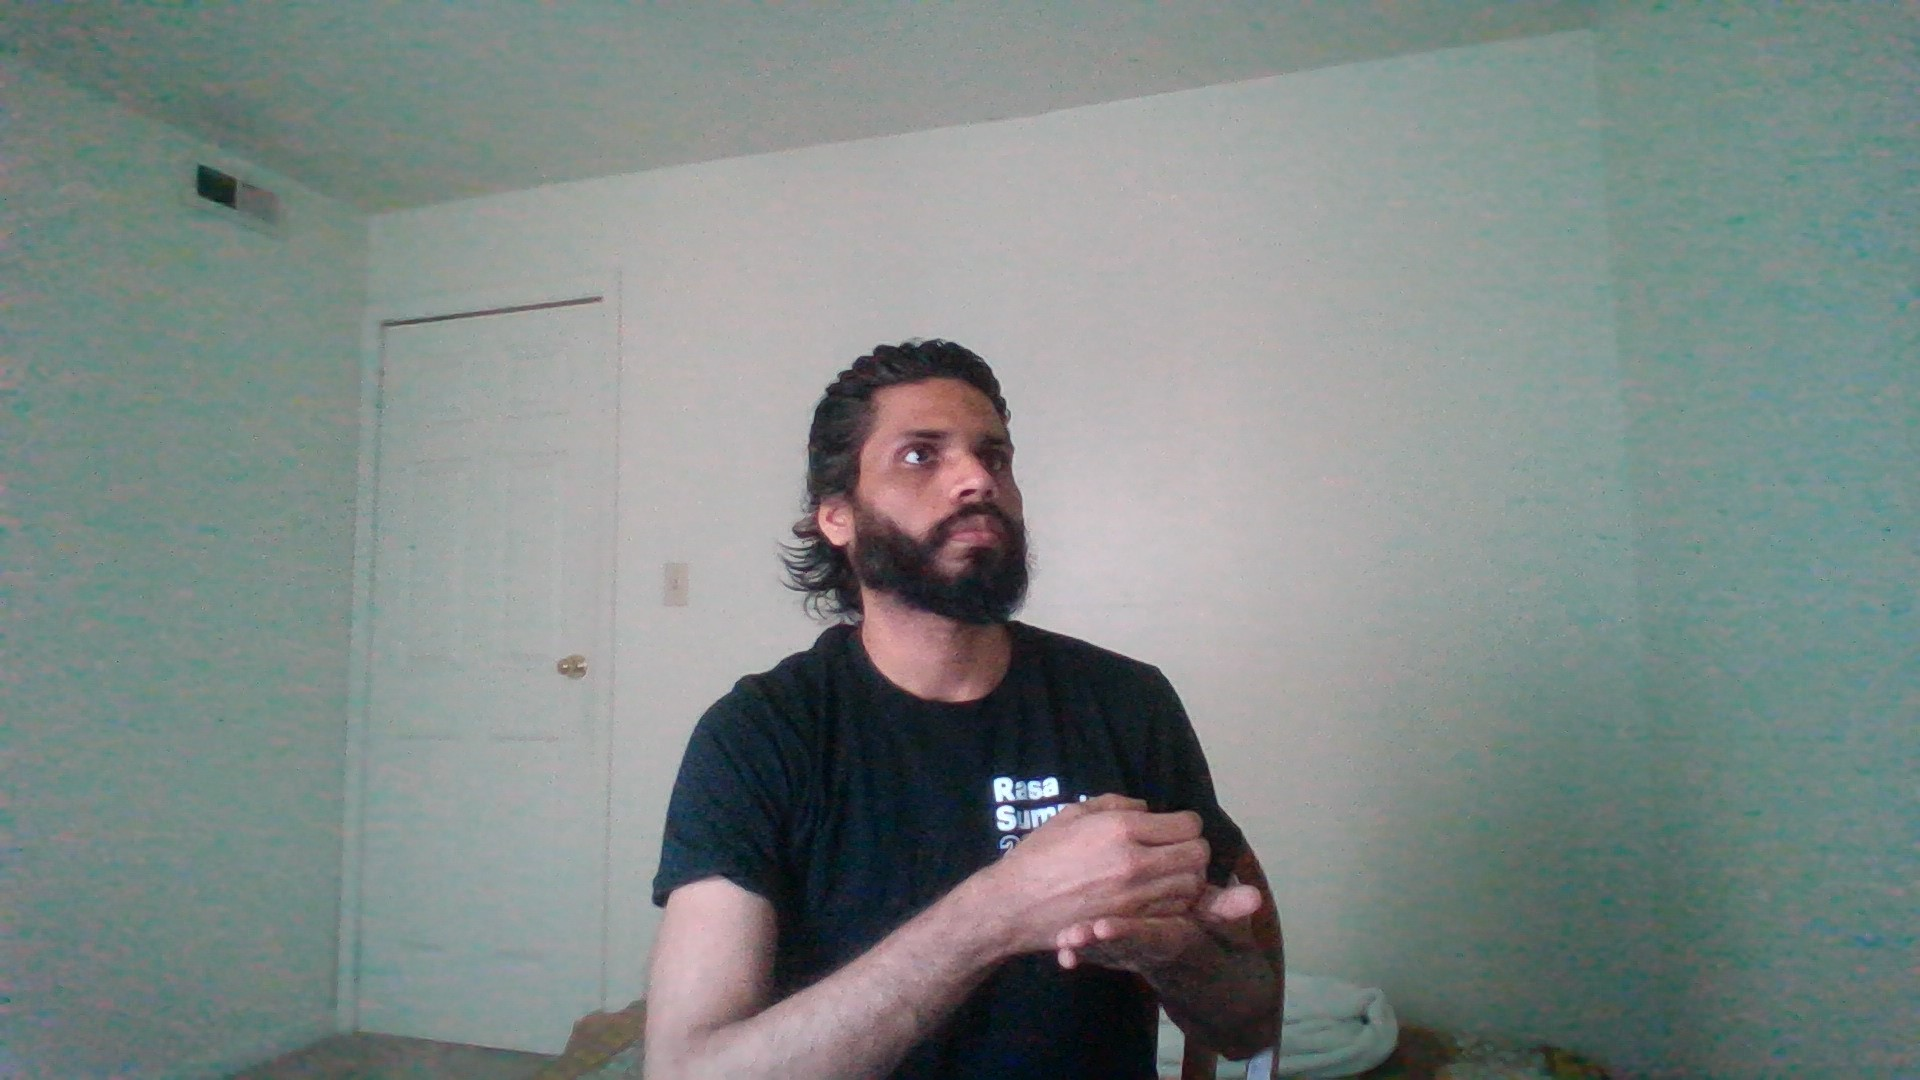Cup: (895, 765, 1352, 1011)
